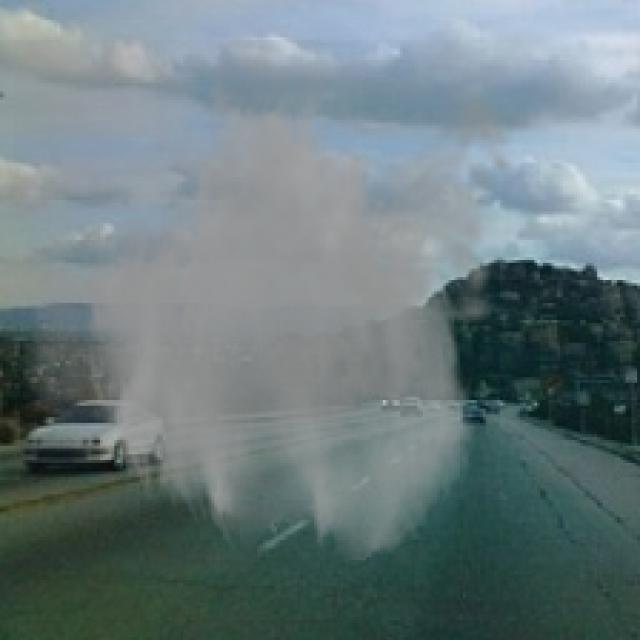smoke: (14, 40, 529, 566)
